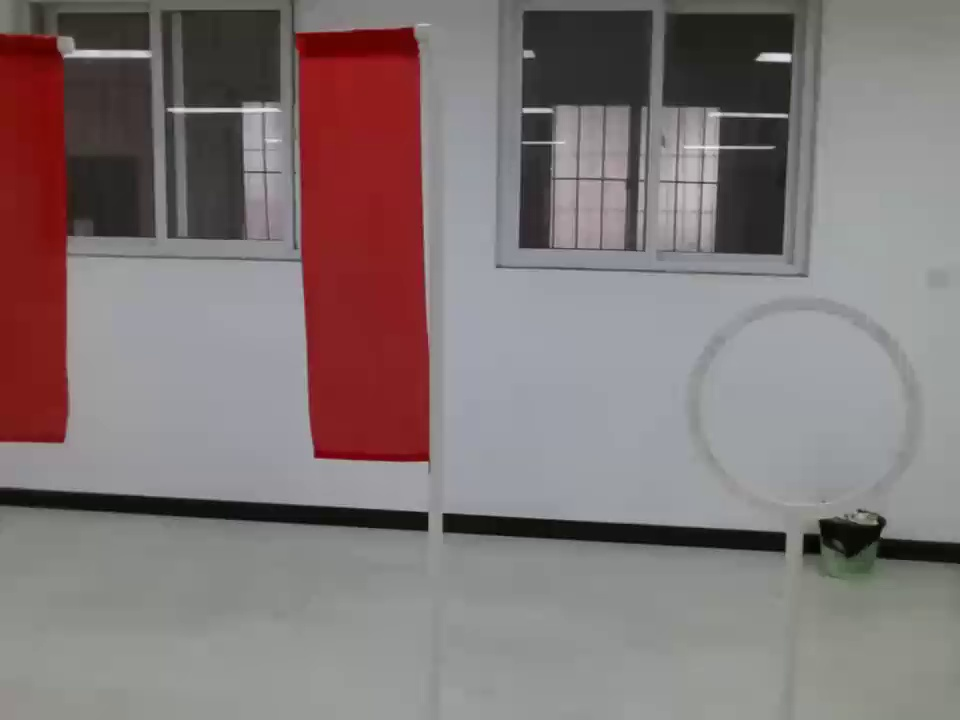qi: (276, 20, 447, 474), (1, 28, 77, 444)
quan: (678, 290, 929, 522)
